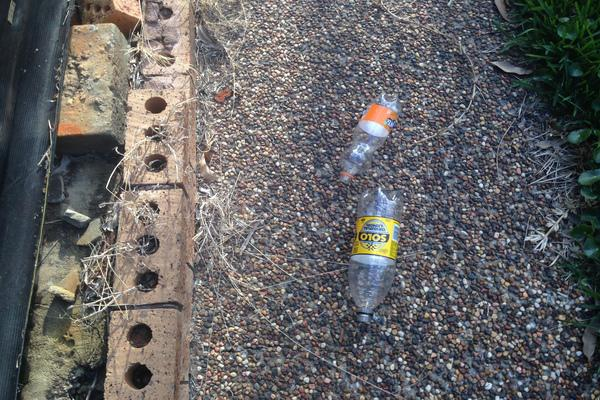Plastic Bottle: (348, 188, 402, 321), (340, 94, 401, 184)
